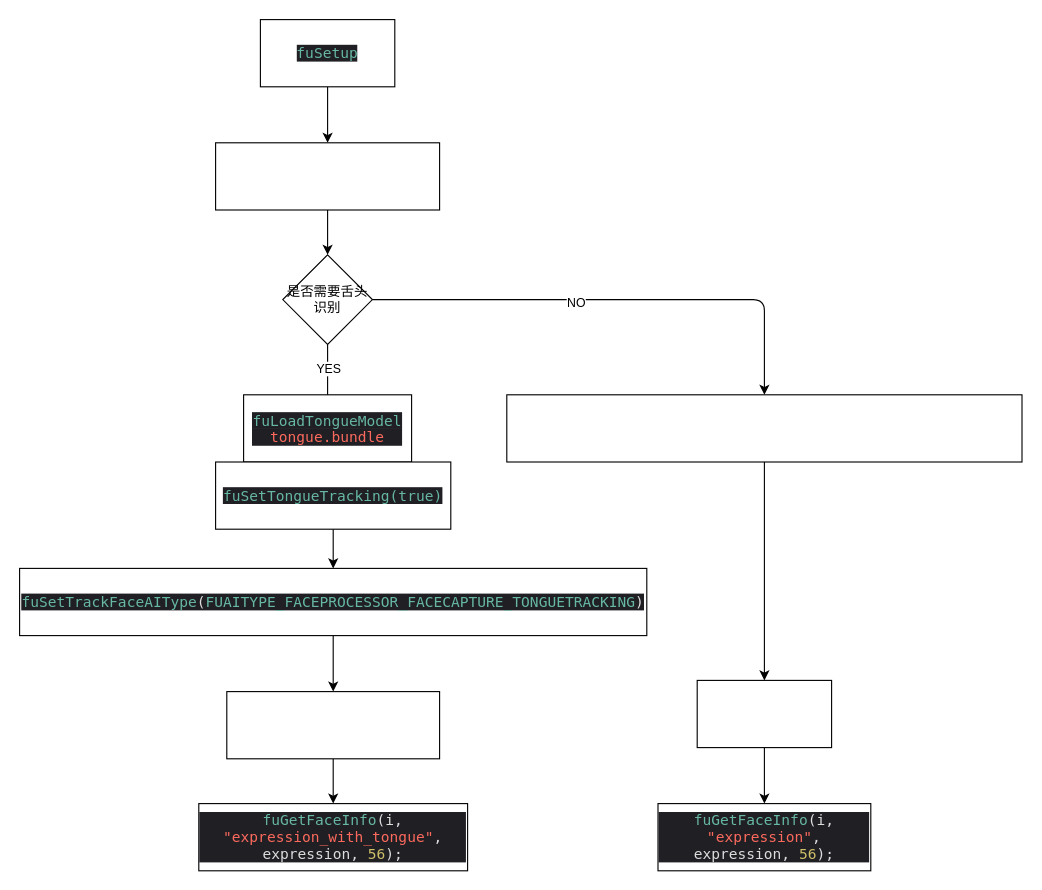
Image size: 1042x890. Some labels were removed from this diagram. Each missing label, with the centre of its shape:
fuLoadAIModelFromPackage ai_face_processor.bundle: point (327, 176)
fuSetTrackFaceAIType ( FUAITYPE_FACEPROCESSOR_FACECAPTURE ): point (764, 428)
fuTrackFace: point (764, 713)
fuTrackFaceWithTongue: point (333, 724)
